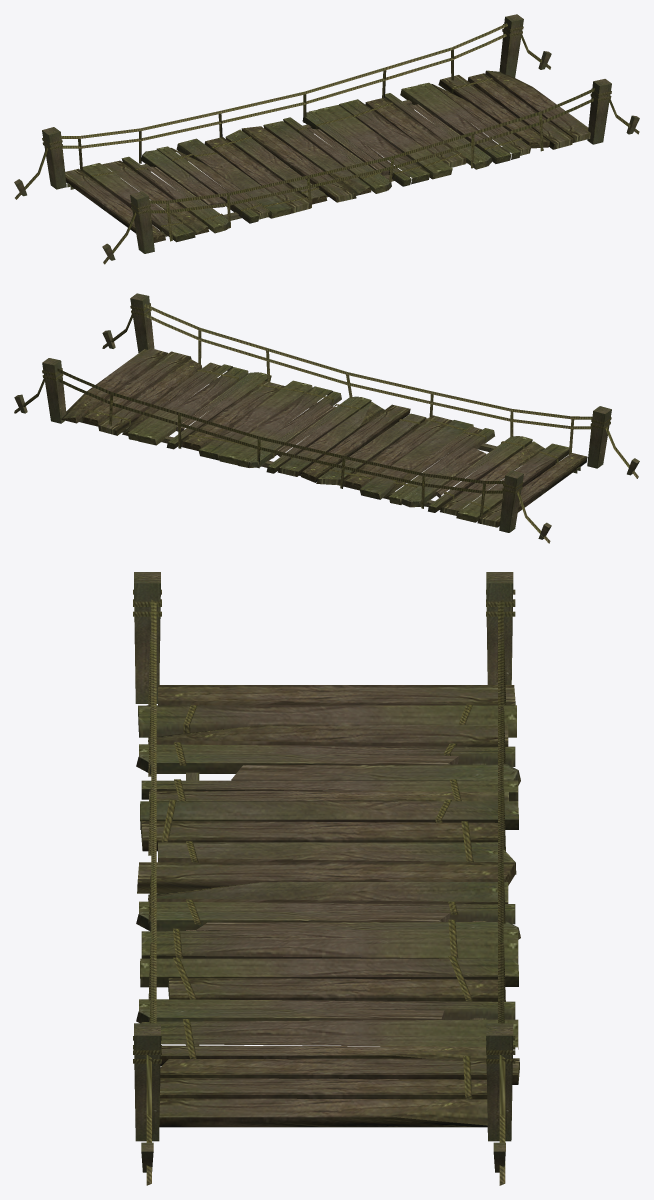
File: s7_fightpve_diaoqiao02.FBX
The picture shows the model from 3 angles, top to bottom: view 1: azimuth 30°, elevation 25°; view 2: azimuth 150°, elevation 25°; view 3: azimuth 270°, elevation 25°; orthographic projection. The views are drawn at different scales.
Visible parts, largest first — view 1: s7_fightpve_diaoqiao02; view 2: s7_fightpve_diaoqiao02; view 3: s7_fightpve_diaoqiao02.
Boxes of the visible parts, x1=… form: s7_fightpve_diaoqiao02: x1=14, y1=14, x2=639, y2=264; s7_fightpve_diaoqiao02: x1=14, y1=293, x2=639, y2=543; s7_fightpve_diaoqiao02: x1=133, y1=572, x2=520, y2=1185.
Bounding box in the file's own units: 20.3 × 2.21 × 6.37.
Materials: 1 (1 with a texture image).
